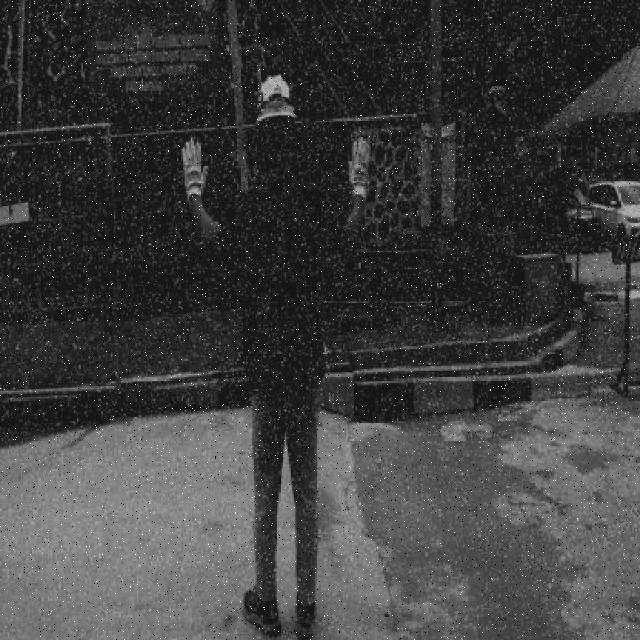Boots: (242, 582, 282, 636), (294, 589, 316, 640)
Gloves: (180, 135, 211, 203), (346, 134, 372, 206)
Helmet: (254, 73, 298, 122)
Mask: (256, 188, 310, 287)
